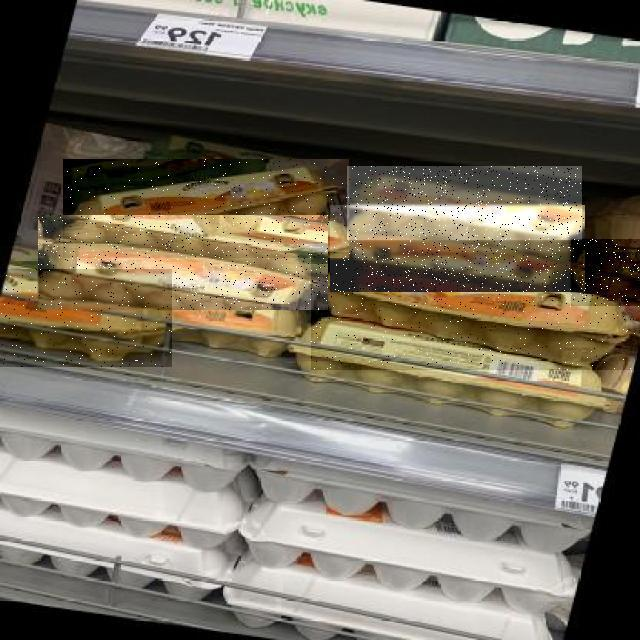Eggs: (311, 252, 640, 370), (63, 159, 349, 258), (38, 215, 328, 310), (330, 205, 585, 292), (347, 166, 582, 240), (0, 269, 172, 367), (571, 239, 640, 306)
